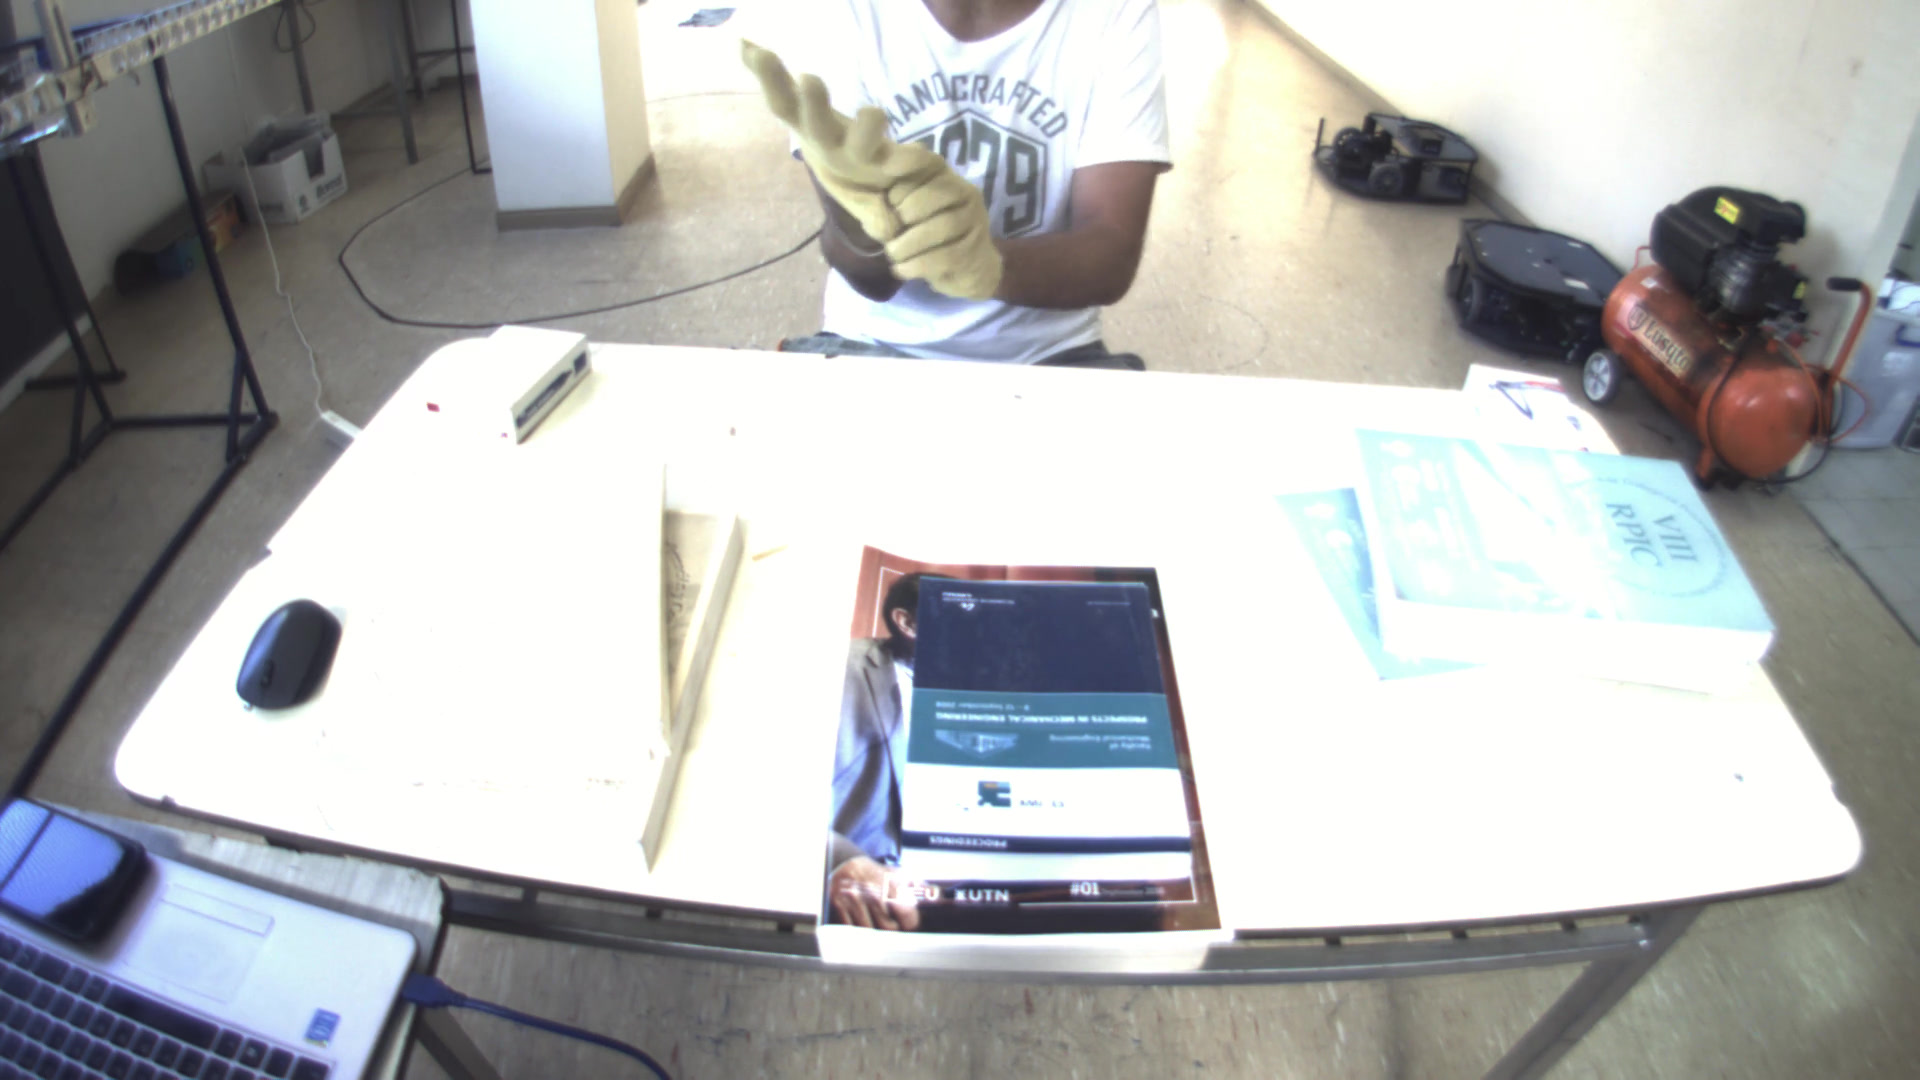hand: (746, 47, 928, 241), (874, 158, 1014, 311)
